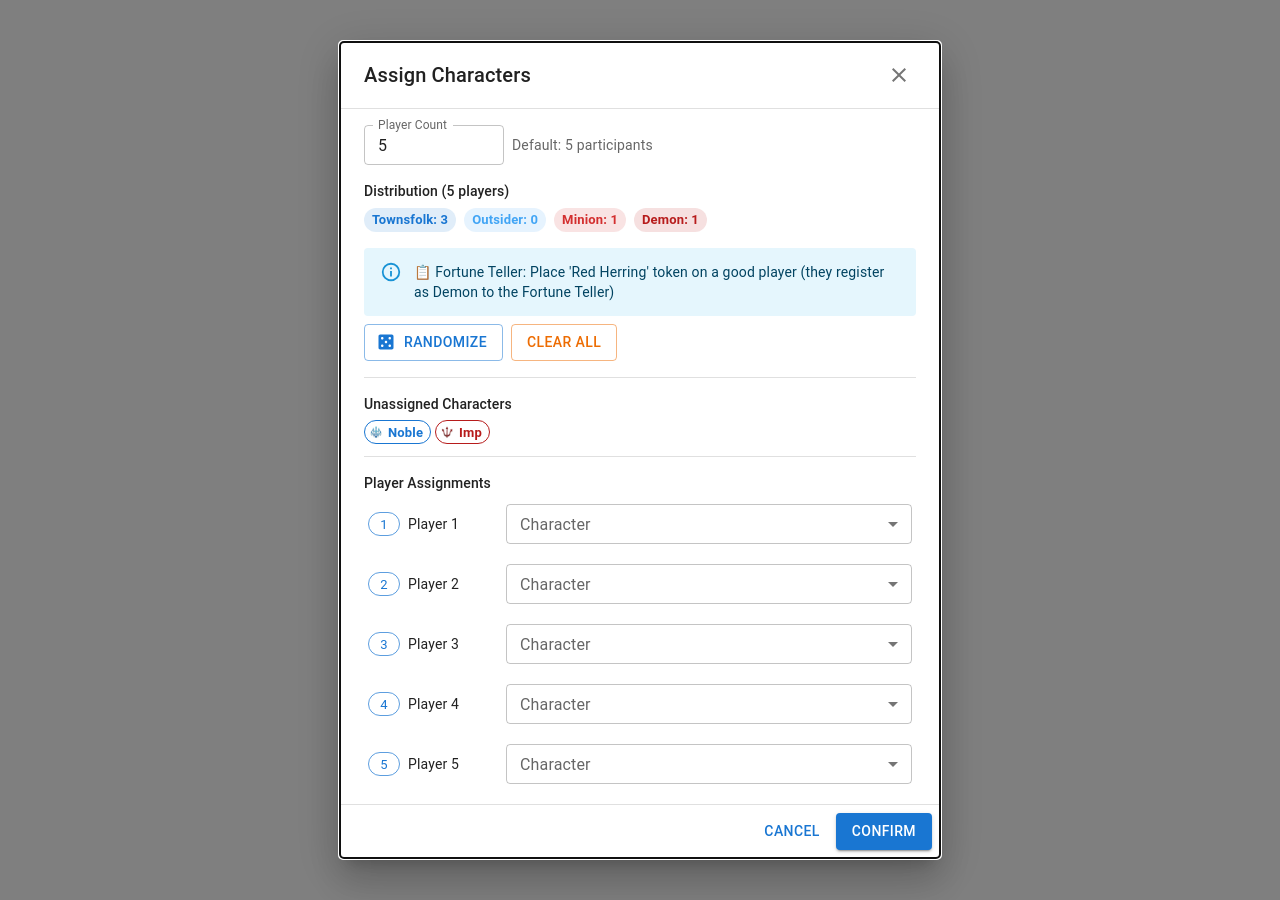
Test case: CharacterAssignmentDialog › tap-to-assign › shows assignment hint when a chip is tapped
Click the button with test id "pool-chip-noble" at (398, 432), box [364,420,431,444]
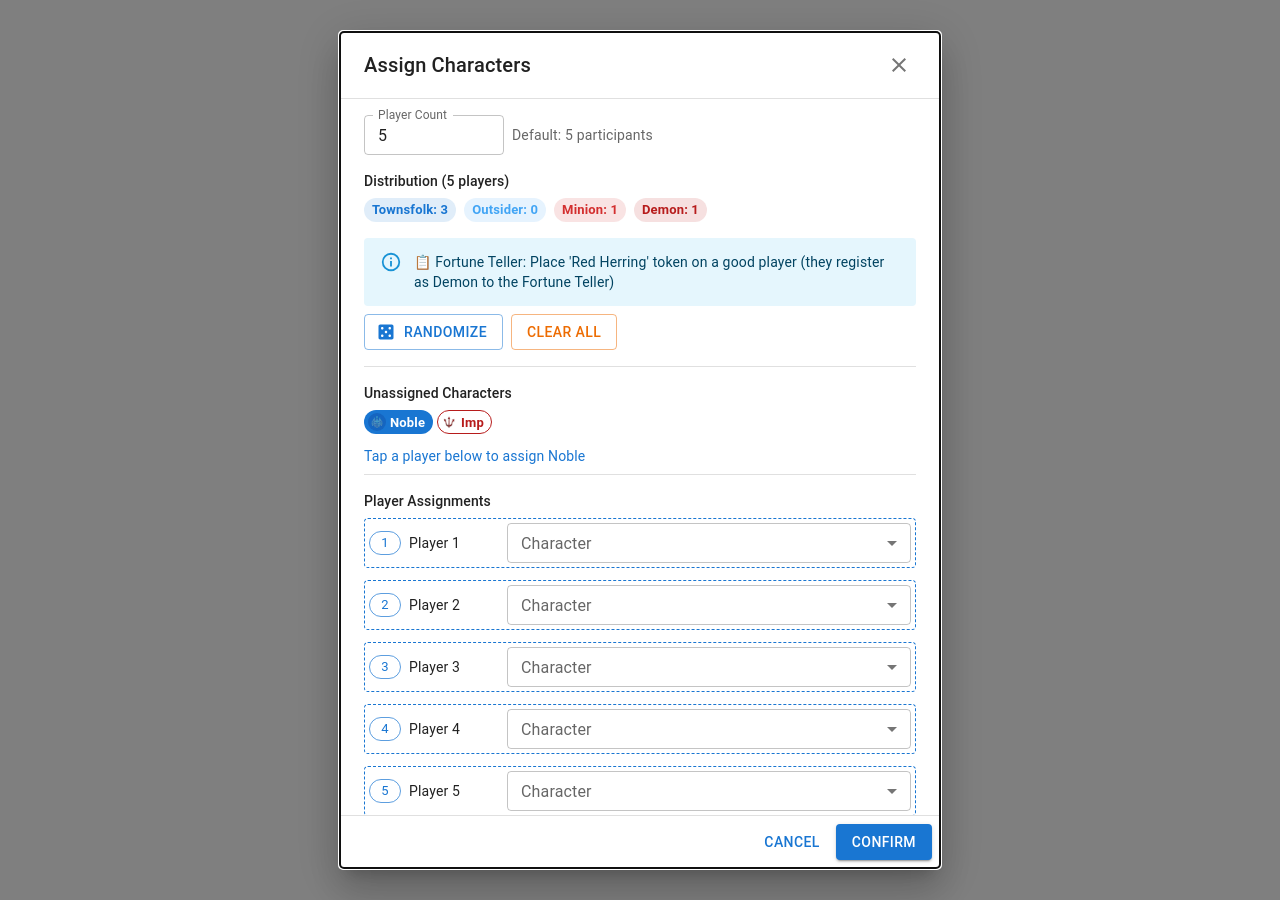
Now the text "Tap a player below to assign Noble" is shown, box [364,448,586,464]
